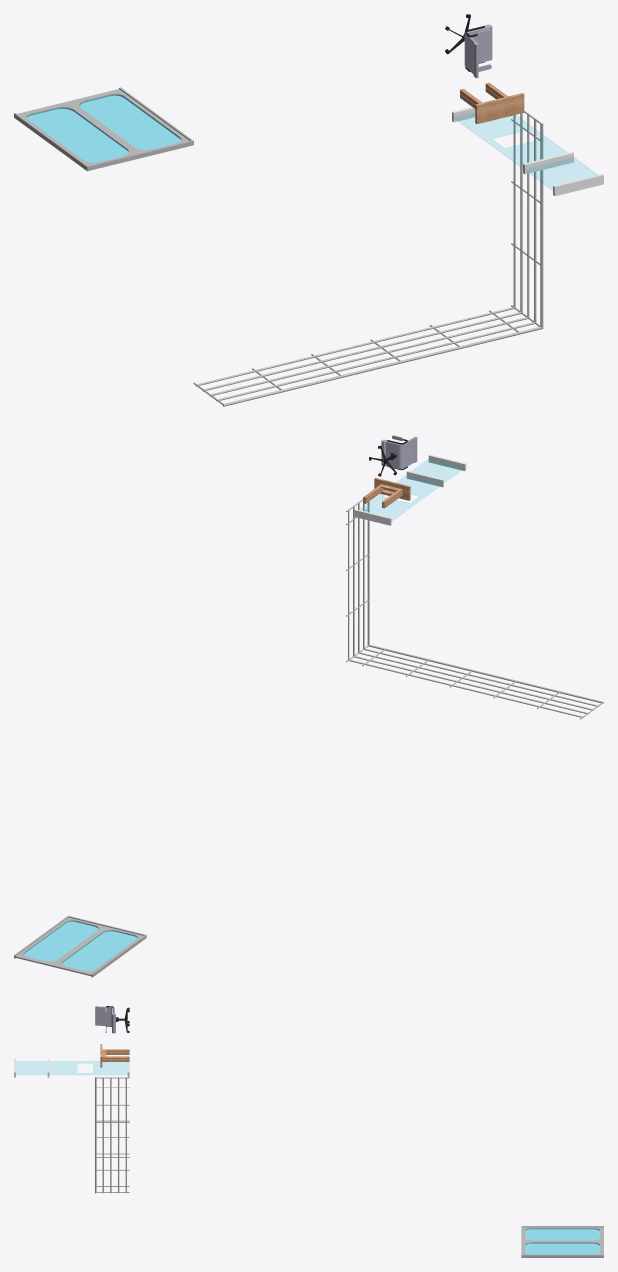
The picture shows the model from 3 angles, top to bottom: view 1: azimuth 30°, elevation 25°; view 2: azimuth 150°, elevation 25°; view 3: azimuth 270°, elevation 25°; orthographic projection. The views are drawn at different scales.
Visible parts, largest first — view 1: 0_3_1_1_2_1_2; view 2: 0_3_1_1_2_1_2; view 3: 0_3_1_1_2_1_2.
Part boxes in pixels (left/top/right/bottom): 0_3_1_1_2_1_2: left=14, top=14, right=603, bottom=406; 0_3_1_1_2_1_2: left=14, top=435, right=603, bottom=977; 0_3_1_1_2_1_2: left=14, top=1006, right=603, bottom=1257.
Bounding box in the file's own units: 5.88 × 6.52 × 15.3.
12 materials, 1 textured.
